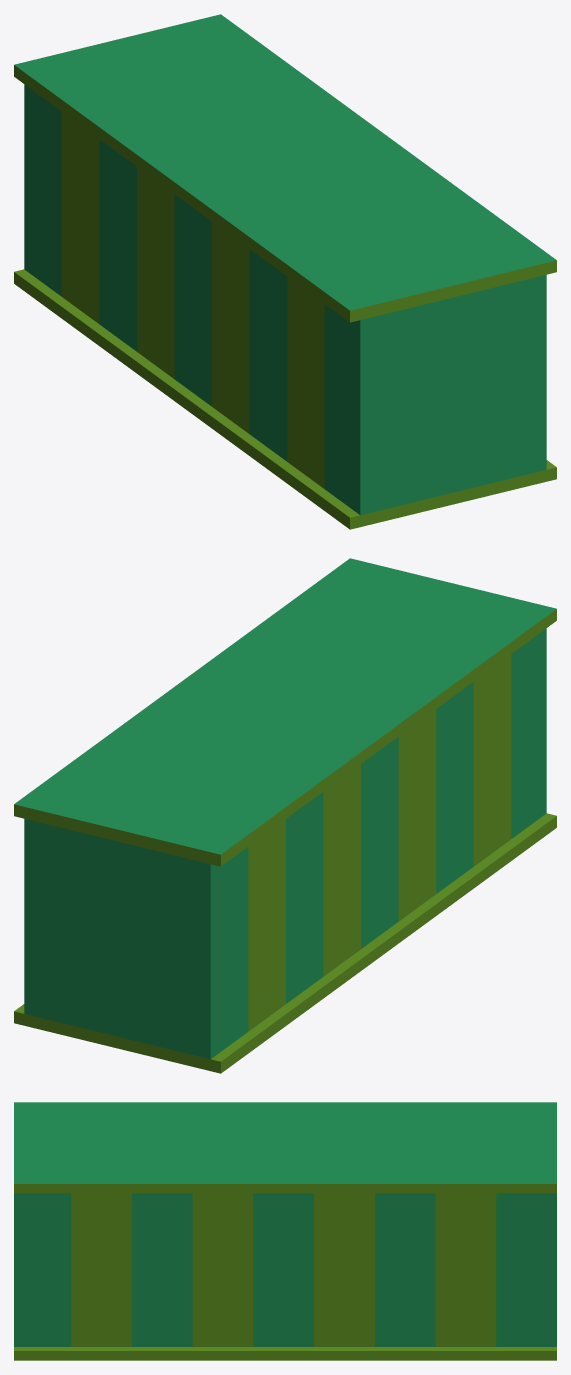
Rendered from ShippingContainerAGreen.fbx.
The picture shows the model from 3 angles, top to bottom: view 1: azimuth 30°, elevation 25°; view 2: azimuth 150°, elevation 25°; view 3: azimuth 270°, elevation 25°; orthographic projection. The views are drawn at different scales.
Parts seen in each view (by area): view 1: ShippingContainerA3Green; view 2: ShippingContainerA3Green; view 3: ShippingContainerA3Green.
Boxes of the visible parts, x1=… form: ShippingContainerA3Green: x1=14, y1=14, x2=556, y2=529; ShippingContainerA3Green: x1=14, y1=558, x2=556, y2=1073; ShippingContainerA3Green: x1=14, y1=1102, x2=556, y2=1360.
Bounding box in the file's own units: 170 × 172 × 479.
1 material, 1 textured.
